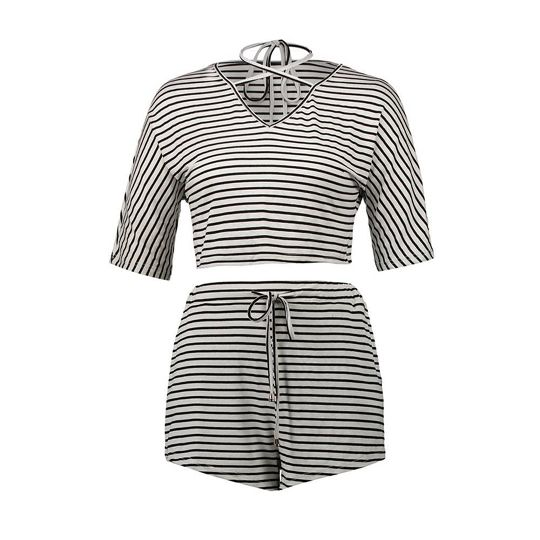striped: (103, 48, 443, 278), (160, 283, 400, 496)
